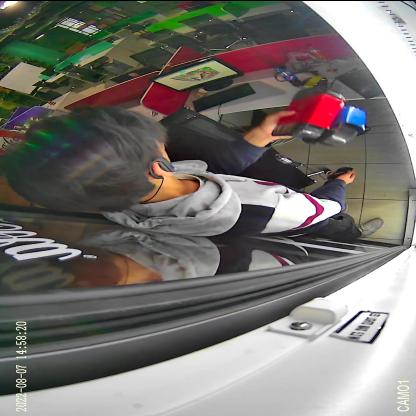blue: (303, 104, 367, 146)
red: (270, 84, 346, 138)
